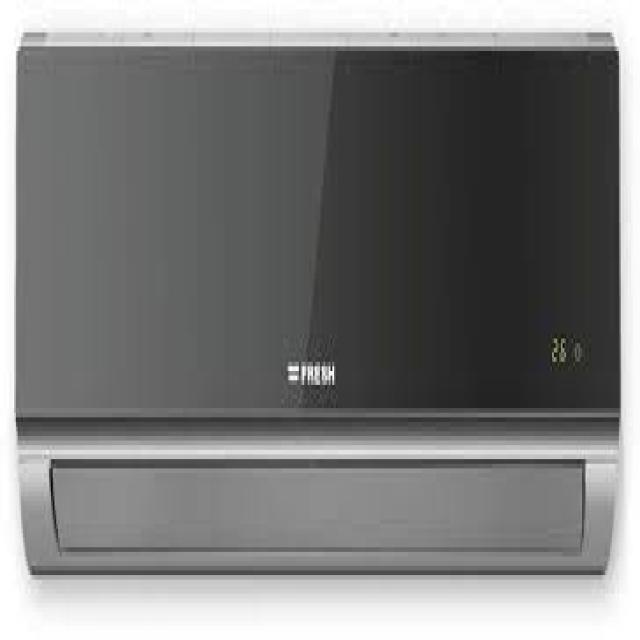ac: (17, 28, 622, 575)
